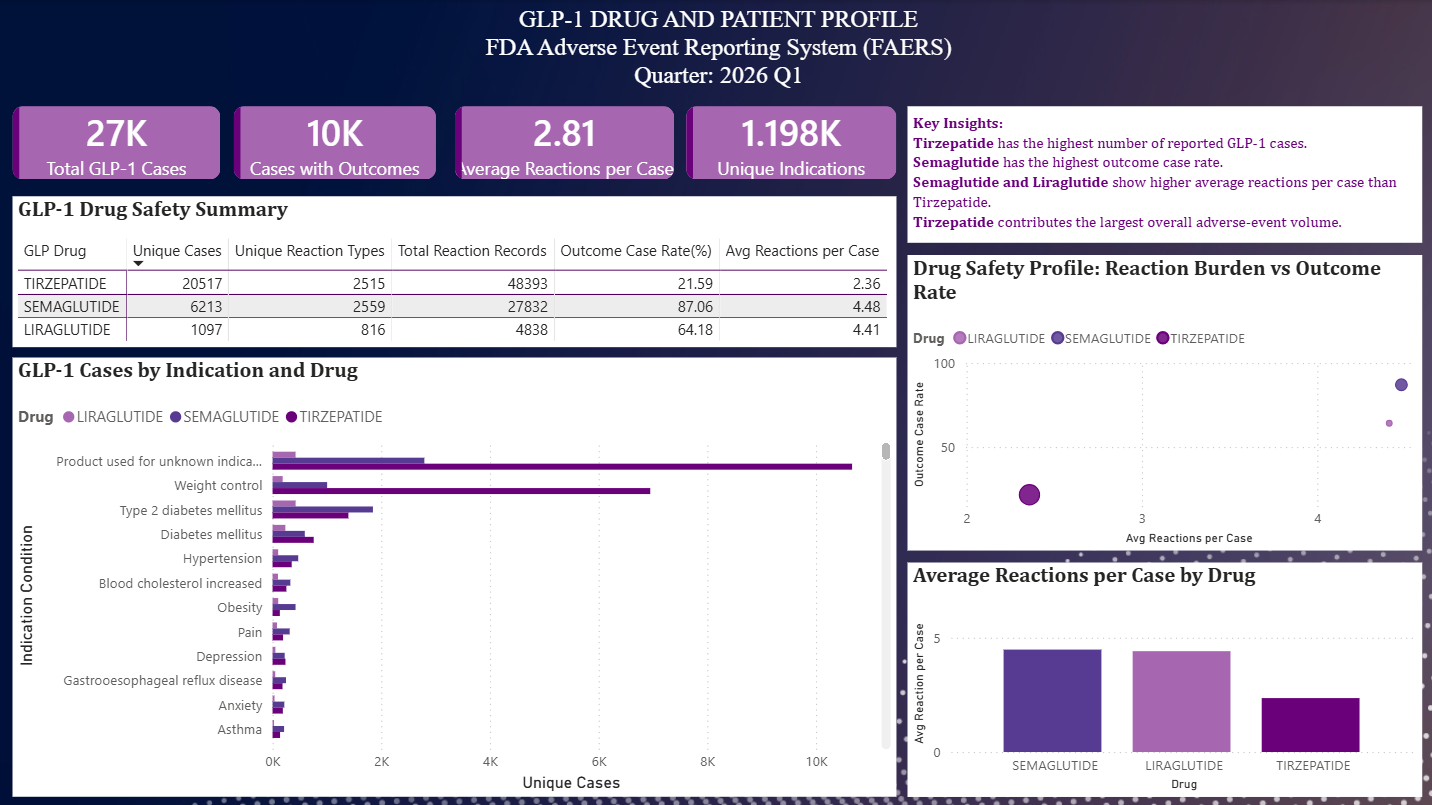

What the dashboard file says about the page in this screenshot:
{"tool":"powerbi","page":{"name":"Drug and Clinical Profile","canvas":[1280,720],"ordinal":2},"visuals":[{"type":"textbox","box":[0,0,1280,104.3],"z":0},{"type":"cardVisual","fields":{"Data":["Sum(overall_summary.total_unique_cases)"]},"box":[11.4,94.3,185.7,65.7],"z":1},{"type":"cardVisual","fields":{"Data":["Sum(overall_summary (2).total_cases_with_outcomes)"]},"box":[208.6,94.3,180,65.7],"z":2},{"type":"cardVisual","fields":{"Data":["Sum(overall_summary (2).avg_reactions_per_case)"]},"box":[405.7,94.3,195.7,65.7],"z":3},{"type":"cardVisual","fields":{"Data":["Count(indication_summary.indi_pt)"]},"box":[611.4,94.3,187.1,65.7],"z":4},{"type":"clusteredBarChart","title":"GLP-1 Cases by Indication and Drug","fields":{"Category":["indication_summary.indi_pt"],"Y":["Sum(indication_summary.unique_cases)"],"Series":["indication_summary.glp1_drug"]},"box":[11.4,318.6,787.1,391.4],"z":5},{"type":"pivotTable","title":"GLP-1 Drug Safety Summary","fields":{"Rows":["drug_summary.glp1_drug"],"Values":["Sum(drug_summary.unique_cases)","Sum(drug_summary.unique_reaction_types)","Sum(drug_summary.total_reaction_records)","Sum(drug_summary.outcome_case_rate)","Avg(drug_summary.avg_reactions_per_case)"]},"box":[11.4,174.3,787.1,134.3],"z":6},{"type":"clusteredColumnChart","title":"Average Reactions per Case by Drug","fields":{"Category":["drug_summary.glp1_drug"],"Y":["Avg(drug_summary.avg_reactions_per_case)"]},"box":[808.6,501.4,458.6,208.6],"z":7},{"type":"scatterChart","title":"Drug Safety Profile: Reaction Burden vs Outcome Rate","fields":{"X":["Avg(drug_summary.avg_reactions_per_case)"],"Y":["Avg(drug_summary.outcome_case_rate)"],"Size":["Sum(drug_summary.unique_cases)"],"Series":["drug_summary.glp1_drug"]},"box":[808.6,227.1,458.6,262.9],"z":8},{"type":"textbox","box":[808.6,94.3,458.6,121.4],"z":9}]}

Visuals, with their boxes in screenshot pixels (x1, y1, x2, y2), scaled from the page's 1280x720 canvas onto the 1432x805 screenshot:
textbox: (x1=0, y1=0, x2=1431, y2=117)
cardVisual - Sum(overall_summary.total_unique_cases): (x1=13, y1=105, x2=221, y2=179)
cardVisual - Sum(overall_summary (2).total_cases_with_outcomes): (x1=233, y1=105, x2=435, y2=179)
cardVisual - Sum(overall_summary (2).avg_reactions_per_case): (x1=454, y1=105, x2=673, y2=179)
cardVisual - Count(indication_summary.indi_pt): (x1=684, y1=105, x2=893, y2=179)
"GLP-1 Cases by Indication and Drug" clusteredBarChart: (x1=13, y1=356, x2=893, y2=794)
"GLP-1 Drug Safety Summary" pivotTable: (x1=13, y1=195, x2=893, y2=345)
"Average Reactions per Case by Drug" clusteredColumnChart: (x1=905, y1=561, x2=1418, y2=794)
"Drug Safety Profile: Reaction Burden vs Outcome Rate" scatterChart: (x1=905, y1=254, x2=1418, y2=548)
textbox: (x1=905, y1=105, x2=1418, y2=241)
